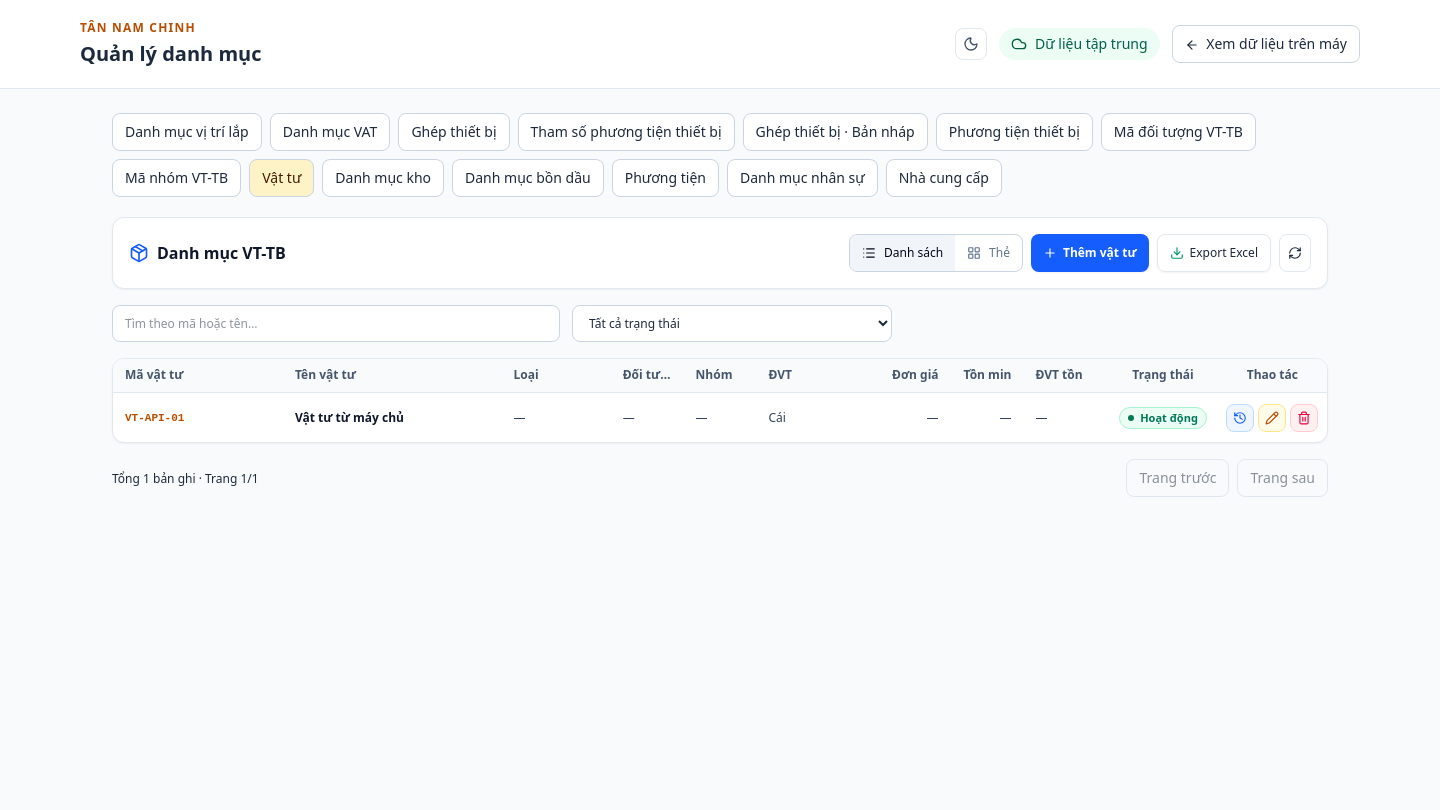
version conflict keeps edited values and never reports a successful save
Expected: the text "Vật tư từ máy chủ" is shown, [283,392,502,442]
Click the button named "Sửa Vật tư từ máy chủ". click: [1272, 418]
box: [1258,404,1286,432]
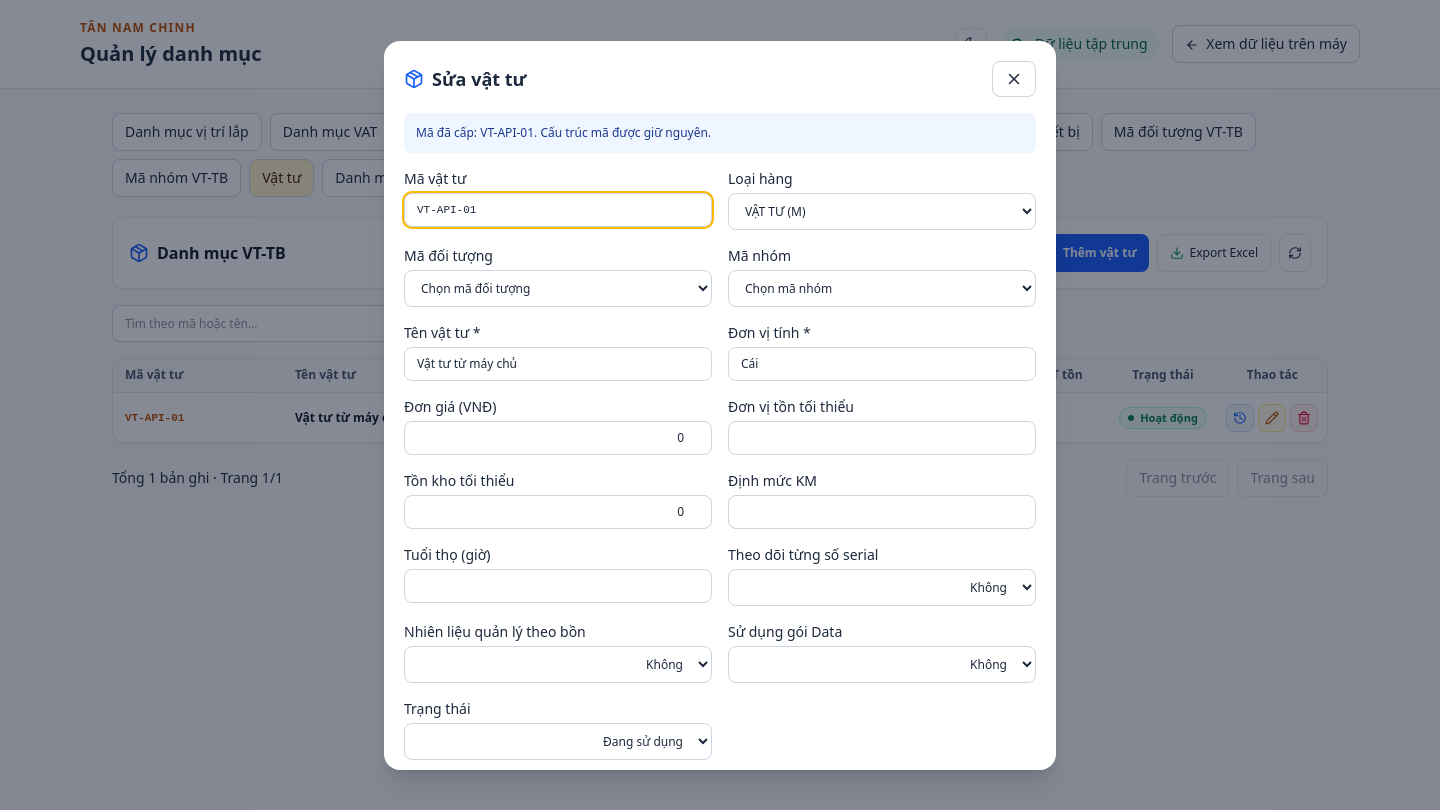
Replace the text in the field labelled "Tên vật tư *" with "Thay đổi chưa lưu". click: [558, 364]
box: [404,346,712,380]
(page scrolled)
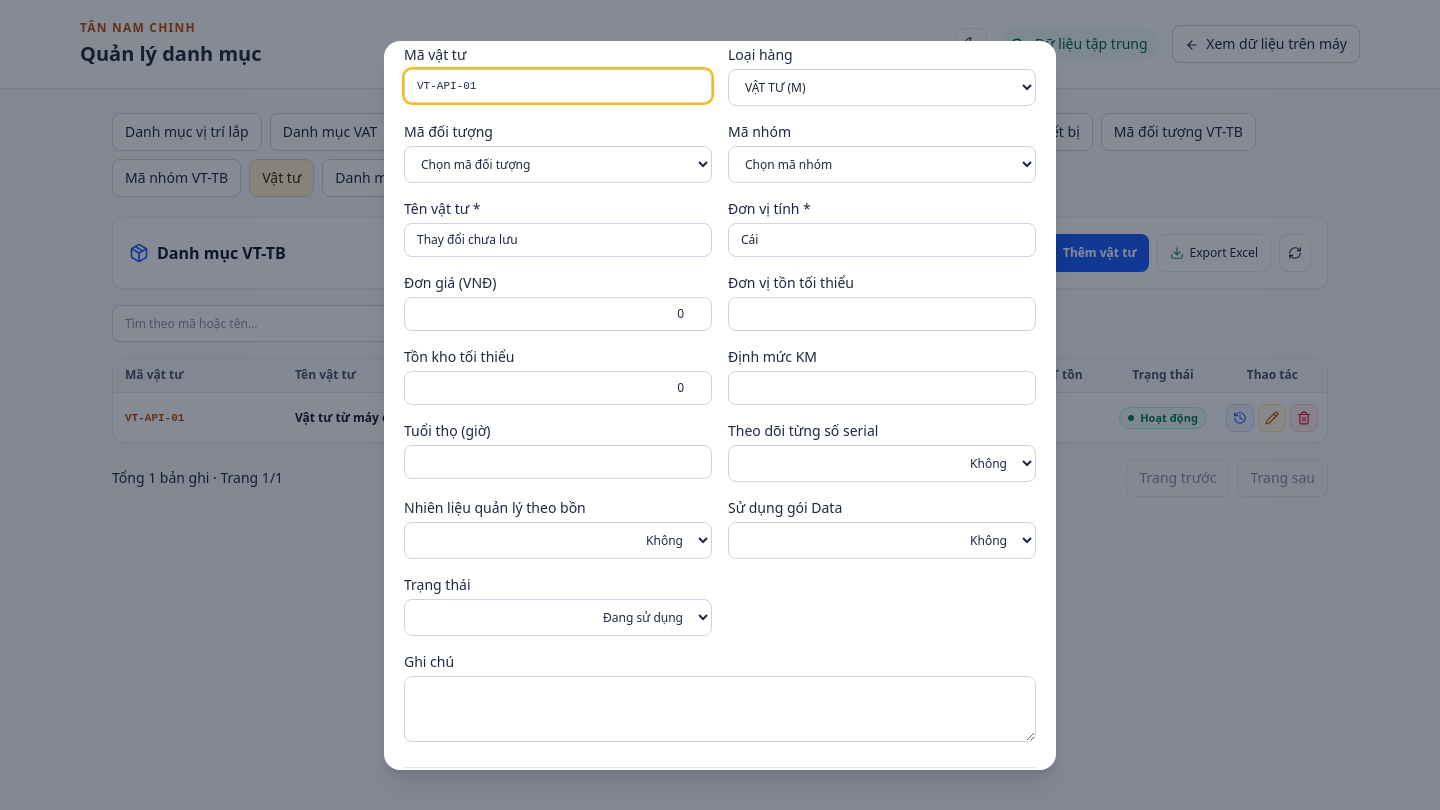
Submit the form
(page scrolled)
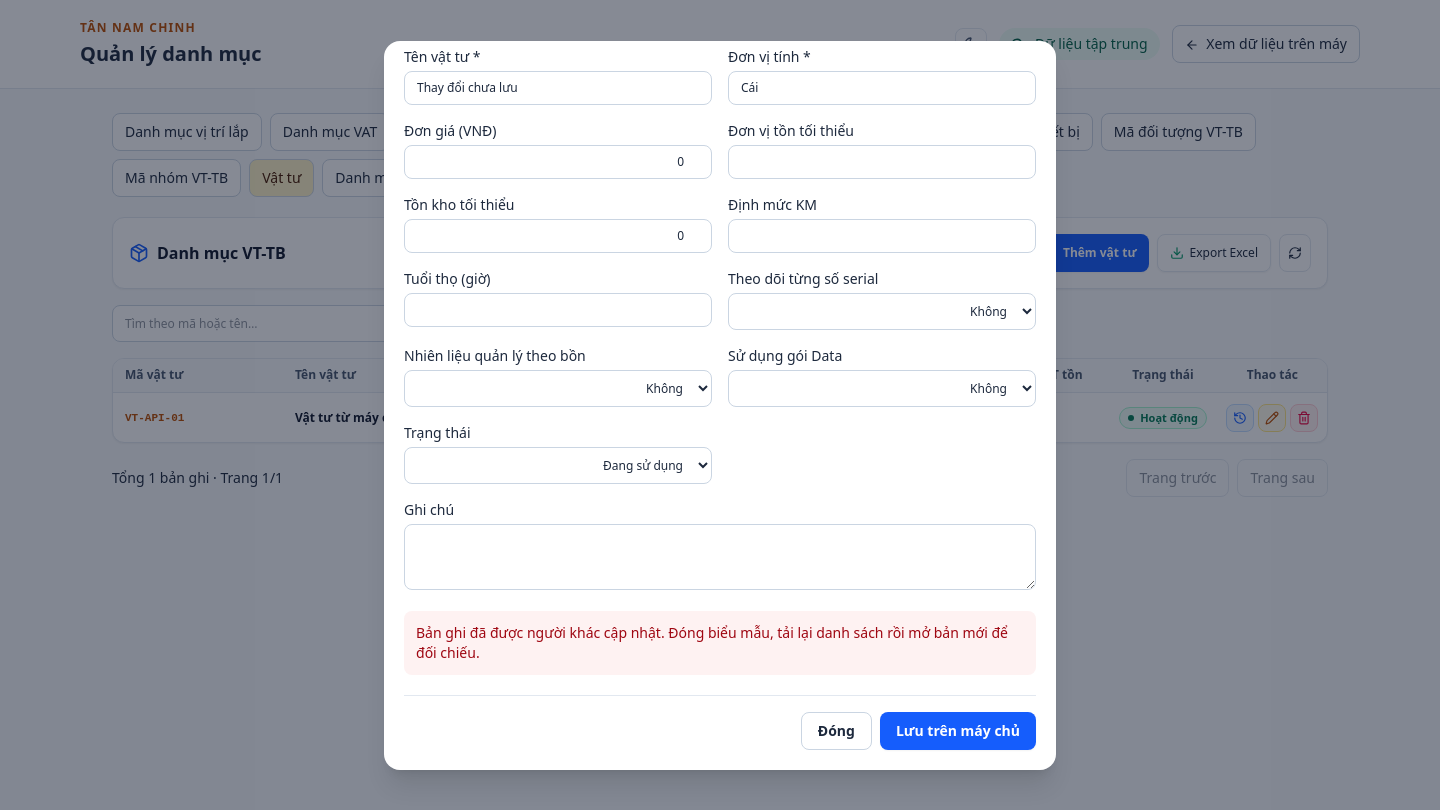
Now the text "Bản ghi đã được người khác cập nhật" is shown, box [416,622,1008,662]
